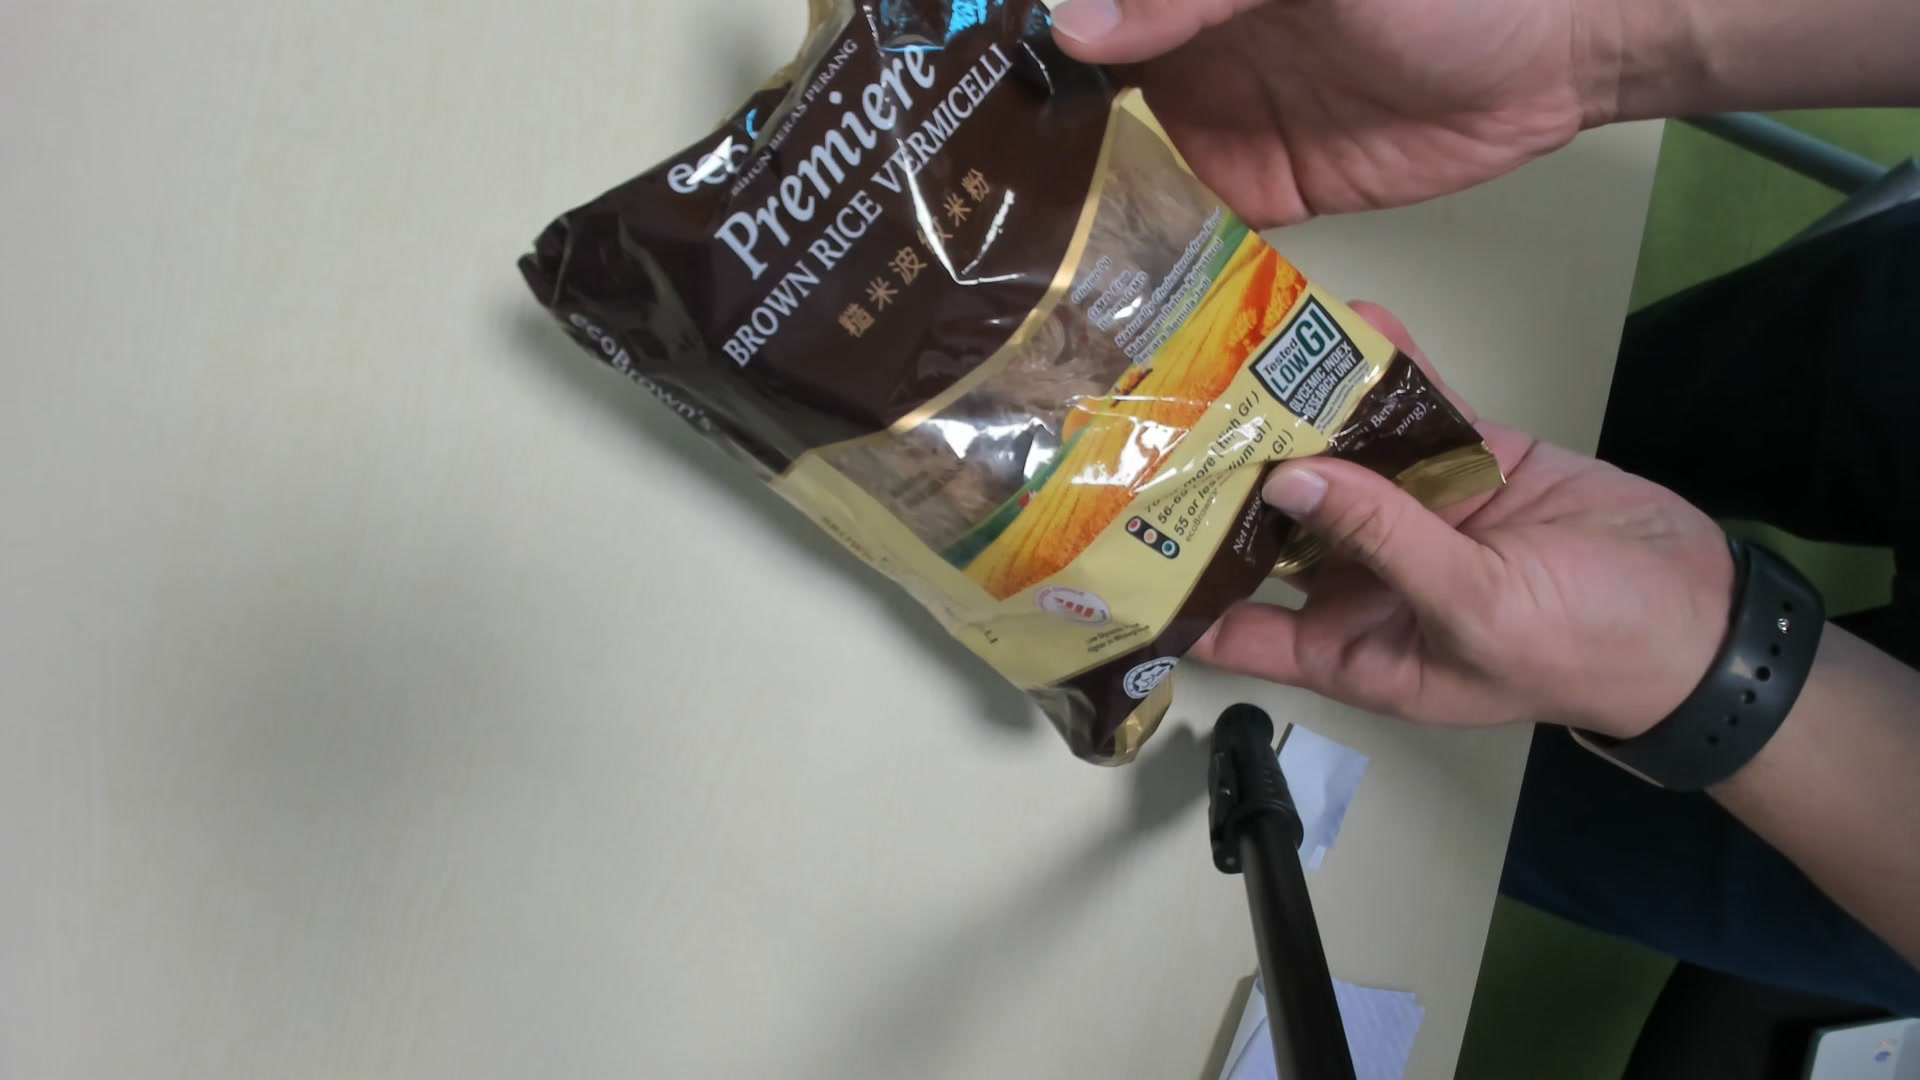BeeHoonVermicelli_300-399g_Halal_Healthy: (524, 3, 1513, 761)
